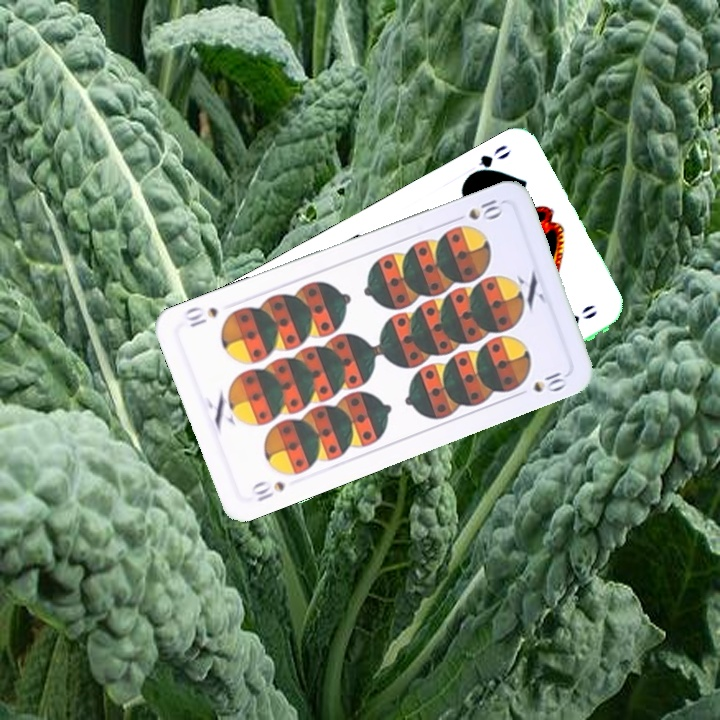GO: (461, 141, 514, 182)
S10: (448, 195, 506, 225), (247, 477, 287, 505)
